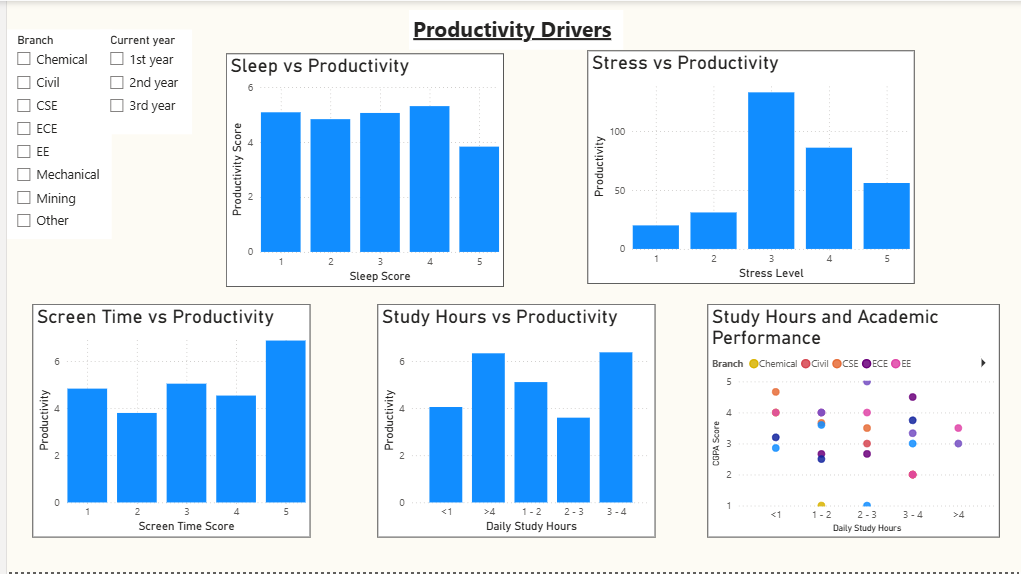

What the dashboard file says about the page in this screenshot:
{"tool":"powerbi","page":{"name":"PRODUCTIVITY DRIVERS","canvas":[1280,720],"ordinal":2},"visuals":[{"type":"clusteredColumnChart","title":"Sleep vs Productivity","fields":{"Category":["Form_Responses.Sleep Score"],"Y":["Avg(Form_Responses.Q18. How productive do you consider yourself)"]},"box":[276,66,350,294],"z":0},{"type":"clusteredColumnChart","title":"Screen Time vs Productivity","fields":{"Category":["Form_Responses.Screen Time Score"],"Y":["Avg(Form_Responses.Q18. How productive do you consider yourself)"]},"box":[32,382,350,294],"z":1000},{"type":"clusteredColumnChart","title":"Study Hours vs Productivity","fields":{"Category":["Form_Responses.Q6. Average study hours per day"],"Y":["Avg(Form_Responses.Q18. How productive do you consider yourself)"]},"box":[466,382,350,294],"z":2000},{"type":"clusteredColumnChart","title":"Stress vs Productivity","fields":{"Category":["Form_Responses.Q14. Rate your academic stress"],"Y":["Sum(Form_Responses.Q18. How productive do you consider yourself)"]},"box":[732,62,412,294],"z":3000},{"type":"scatterChart","title":"Study Hours and Academic Performance","fields":{"X":["Form_Responses.Q6. Average study hours per day"],"Y":["Avg(Form_Responses.CGPA Score)"],"Series":["Form_Responses.Q2. Branch"]},"box":[882,382,368,294],"z":4000},{"type":"slicer","fields":{"Values":["Form_Responses.Q2. Branch"]},"box":[0,36,132,264],"z":5000},{"type":"slicer","fields":{"Values":["Form_Responses.Q3. Current year"]},"box":[118,36,116,132],"z":6000},{"type":"textbox","box":[506,12,270,50],"z":7000}]}

Visuals, with their boxes in screenshot pixels (x1, y1, x2, y2), scaled from the page's 1280x720 canvas onto the 1021x574 screenshot:
"Sleep vs Productivity" clusteredColumnChart: select_region(220, 53, 499, 287)
"Screen Time vs Productivity" clusteredColumnChart: select_region(26, 305, 305, 539)
"Study Hours vs Productivity" clusteredColumnChart: select_region(372, 305, 651, 539)
"Stress vs Productivity" clusteredColumnChart: select_region(584, 49, 913, 284)
"Study Hours and Academic Performance" scatterChart: select_region(704, 305, 997, 539)
slicer - Form_Responses.Q2. Branch: select_region(0, 29, 105, 239)
slicer - Form_Responses.Q3. Current year: select_region(94, 29, 187, 134)
textbox: select_region(404, 10, 619, 49)
